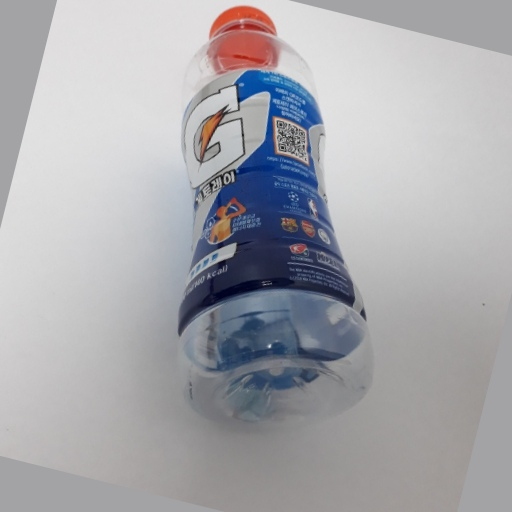Plastic_0: (176, 4, 372, 441)
